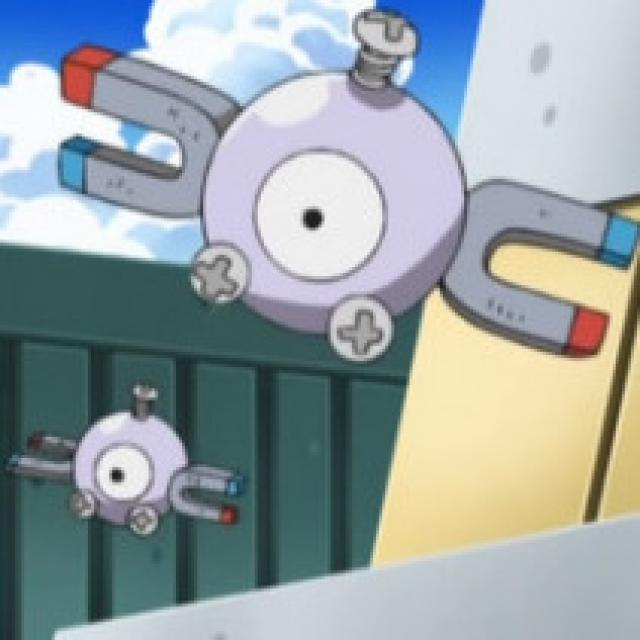Magnemite: (41, 0, 640, 373), (15, 374, 257, 552)
